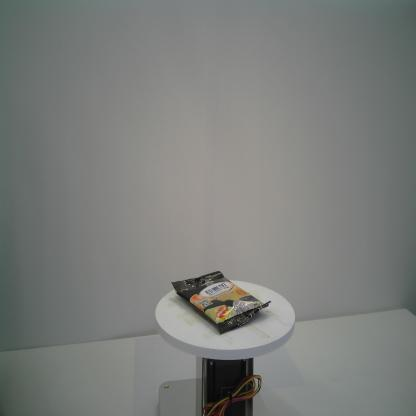Instant Drink: (171, 270, 272, 335)
